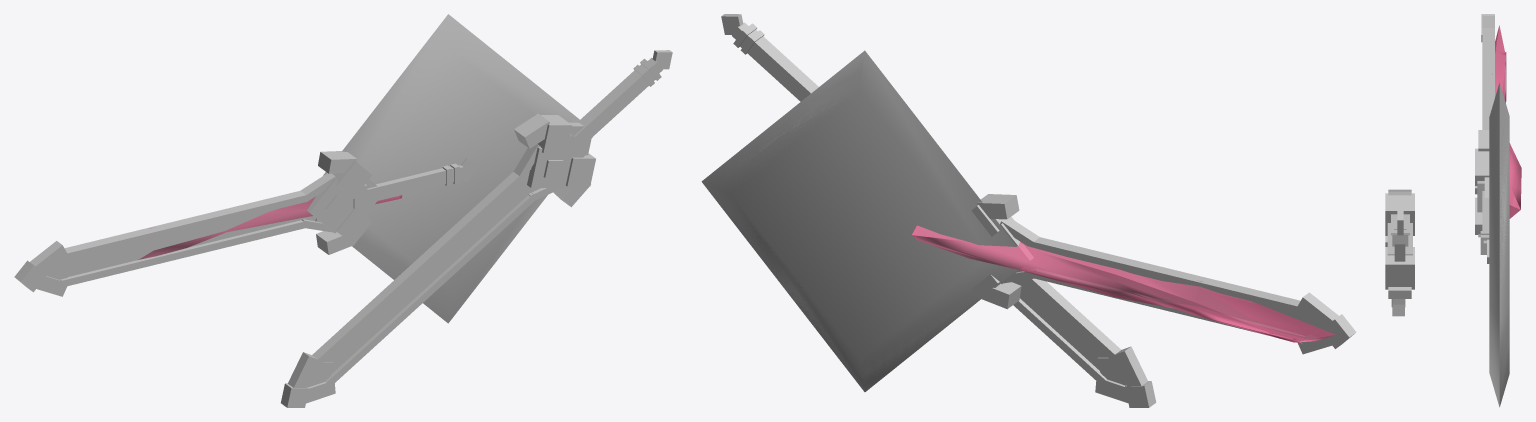
File: wangjian.obj
3 views of the same model, side by side, from view 1: azimuth 30°, elevation 25°; view 2: azimuth 150°, elevation 25°; view 3: azimuth 270°, elevation 25° (orthographic). The views are drawn at different scales.
Visible parts, largest first — view 1: item_back, item_blade, blade, effect; view 2: item_back, blade, effect, item_damaged, item_blade; view 3: item_back, item_blade, blade, item_damaged, effect.
Boxes of the visible parts, left/top/right/bottom form: item_back: left=323, top=14, right=592, bottom=323; item_blade: left=281, top=50, right=672, bottom=407; blade: left=14, top=151, right=477, bottom=296; effect: left=137, top=195, right=402, bottom=260; item_back: left=702, top=50, right=1027, bottom=391; blade: left=971, top=194, right=1356, bottom=354; effect: left=912, top=225, right=1335, bottom=343; item_damaged: left=701, top=51, right=1017, bottom=391; item_blade: left=721, top=14, right=1156, bottom=407; item_back: left=1489, top=82, right=1509, bottom=407; item_blade: left=1385, top=189, right=1414, bottom=316; blade: left=1475, top=14, right=1494, bottom=263; item_damaged: left=1499, top=85, right=1509, bottom=404; effect: left=1492, top=25, right=1521, bottom=218.
Bounding box in the file's own units: 292 × 141 × 53.66.
